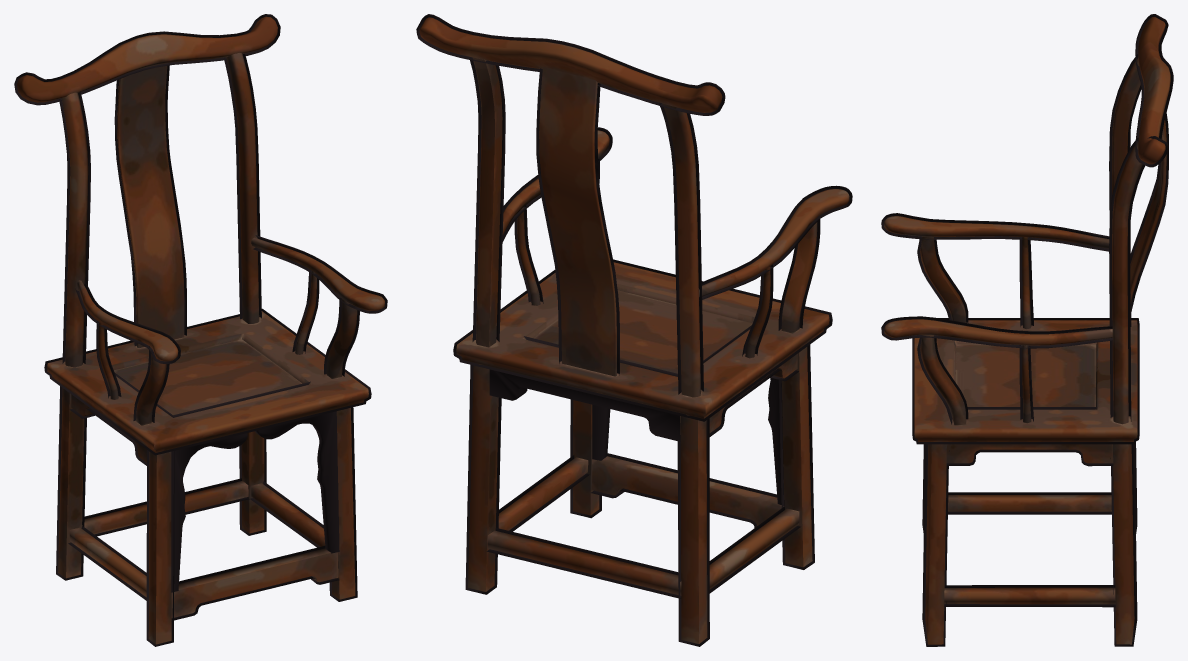
The model's file is SM_Int_ChineseArmchair.fbx.
3 renders of one model, left to right at view 1: azimuth 30°, elevation 25°; view 2: azimuth 150°, elevation 25°; view 3: azimuth 270°, elevation 25°, orthographic. The views are drawn at different scales.
Parts seen in each view (by area): view 1: SM_Int_ChineseArmchair; view 2: SM_Int_ChineseArmchair; view 3: SM_Int_ChineseArmchair.
Boxes of the visible parts, bbox=[...] form: SM_Int_ChineseArmchair: bbox=[14, 14, 387, 646]; SM_Int_ChineseArmchair: bbox=[416, 14, 852, 646]; SM_Int_ChineseArmchair: bbox=[881, 14, 1173, 646].
Size of what is drawn, in the model's own units: 0.8637 by 1.6 by 0.8044.
